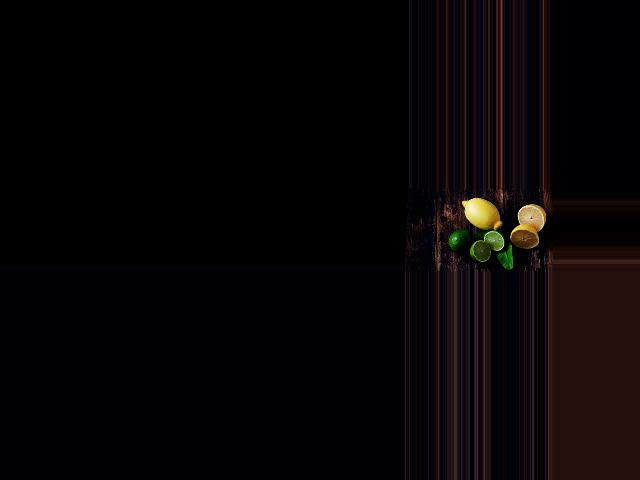lemon: (459, 196, 503, 233)
